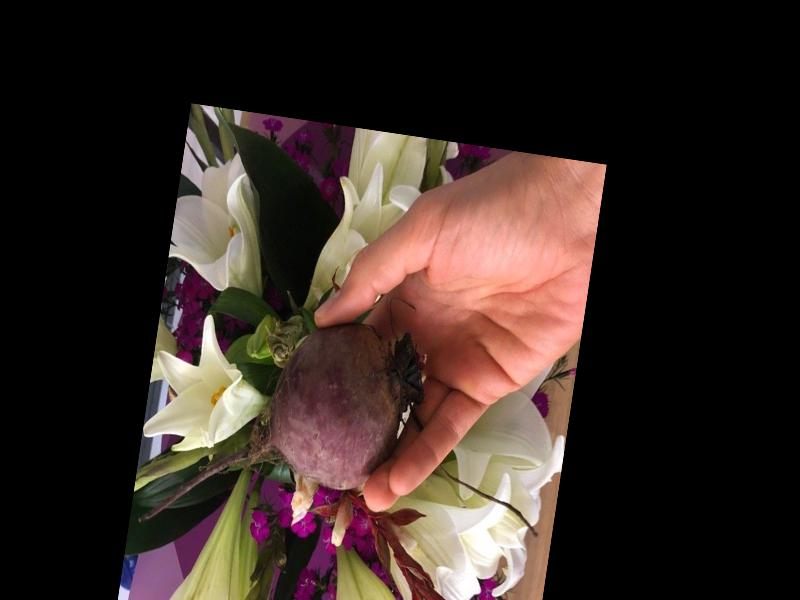Beet: (140, 296, 431, 561)
